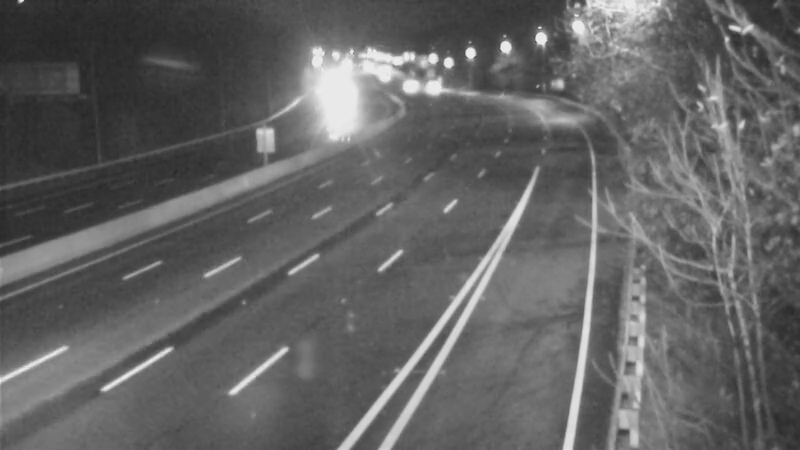vehicle: (383, 64, 433, 114), (405, 61, 455, 111)
